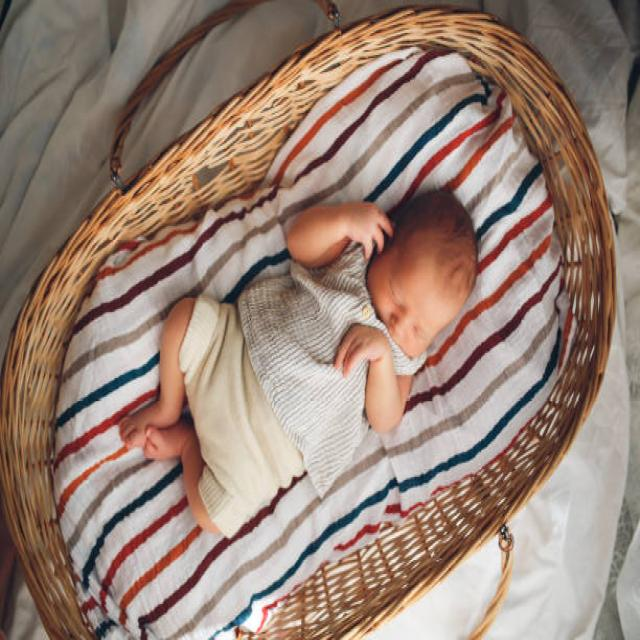baby: (117, 185, 478, 538)
crib: (0, 0, 617, 638)
